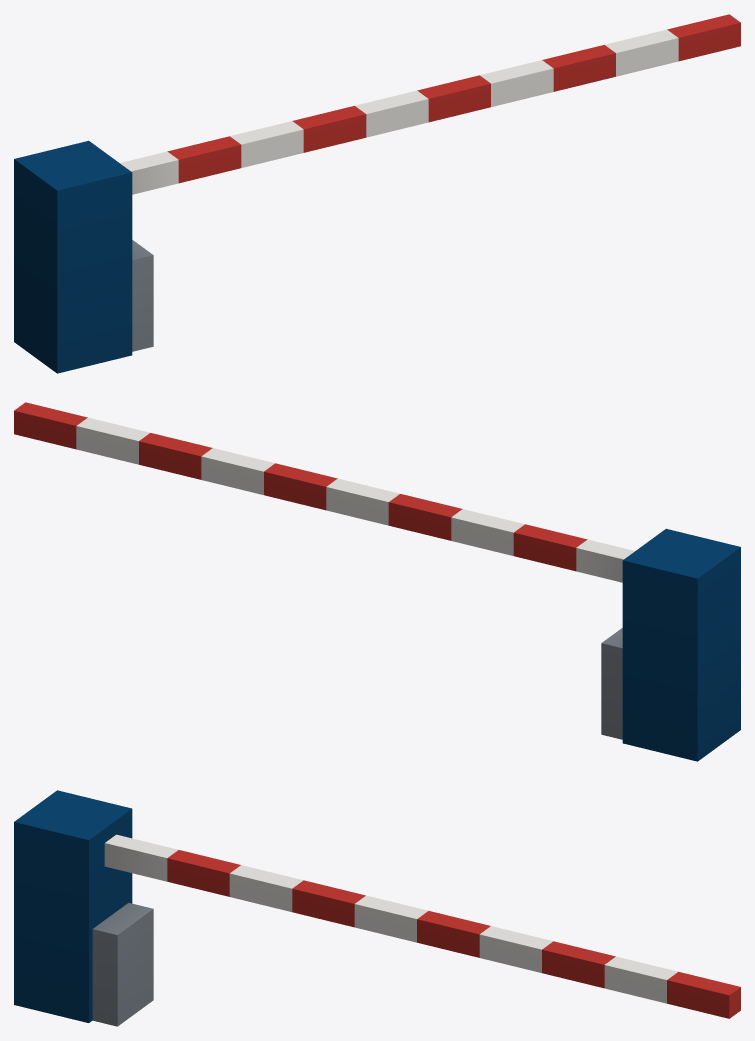
The model's file is boom-gate.glb.
The picture shows the model from 3 angles, top to bottom: view 1: azimuth 30°, elevation 25°; view 2: azimuth 150°, elevation 25°; view 3: azimuth 330°, elevation 25°; orthographic projection.
Visible parts, largest first — view 1: boom-gate; view 2: boom-gate; view 3: boom-gate.
Boxes of the visible parts, x1=… form: boom-gate: x1=14, y1=14, x2=740, y2=373; boom-gate: x1=14, y1=402, x2=740, y2=761; boom-gate: x1=14, y1=790, x2=740, y2=1026.
Size of the model in its own units: 5.6 by 1.4 by 0.6.
